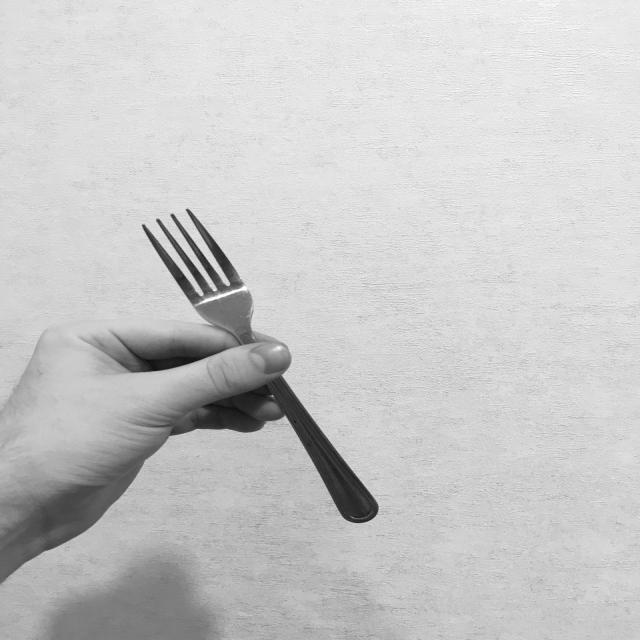fork: (141, 207, 382, 522)
